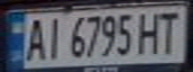5: (115, 10, 139, 56)
6: (66, 12, 87, 59)
7: (81, 12, 103, 59)
9: (100, 11, 121, 57)
A: (21, 15, 48, 62)
H: (136, 9, 163, 55)
I: (42, 15, 66, 61)
T: (154, 8, 184, 55)
